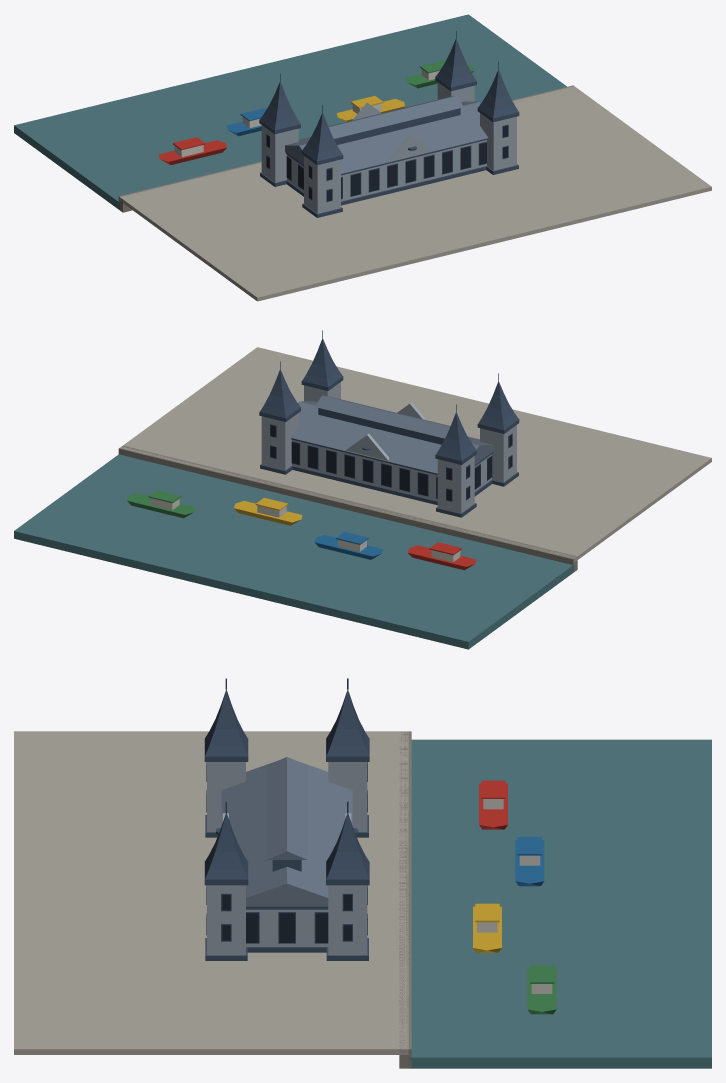
Rendered from ver_o_peso.glb.
The picture shows the model from 3 angles, top to bottom: view 1: azimuth 30°, elevation 25°; view 2: azimuth 150°, elevation 25°; view 3: azimuth 270°, elevation 25°; orthographic projection. The views are drawn at different scales.
Visible parts, largest first — view 1: ver_o_peso; view 2: ver_o_peso; view 3: ver_o_peso.
Part boxes in pixels (x1,y1,x2,y2): ver_o_peso: [14, 14, 711, 301]; ver_o_peso: [14, 330, 711, 649]; ver_o_peso: [14, 678, 711, 1068].
Bounding box in the file's own units: 124 × 30.8 × 115.
